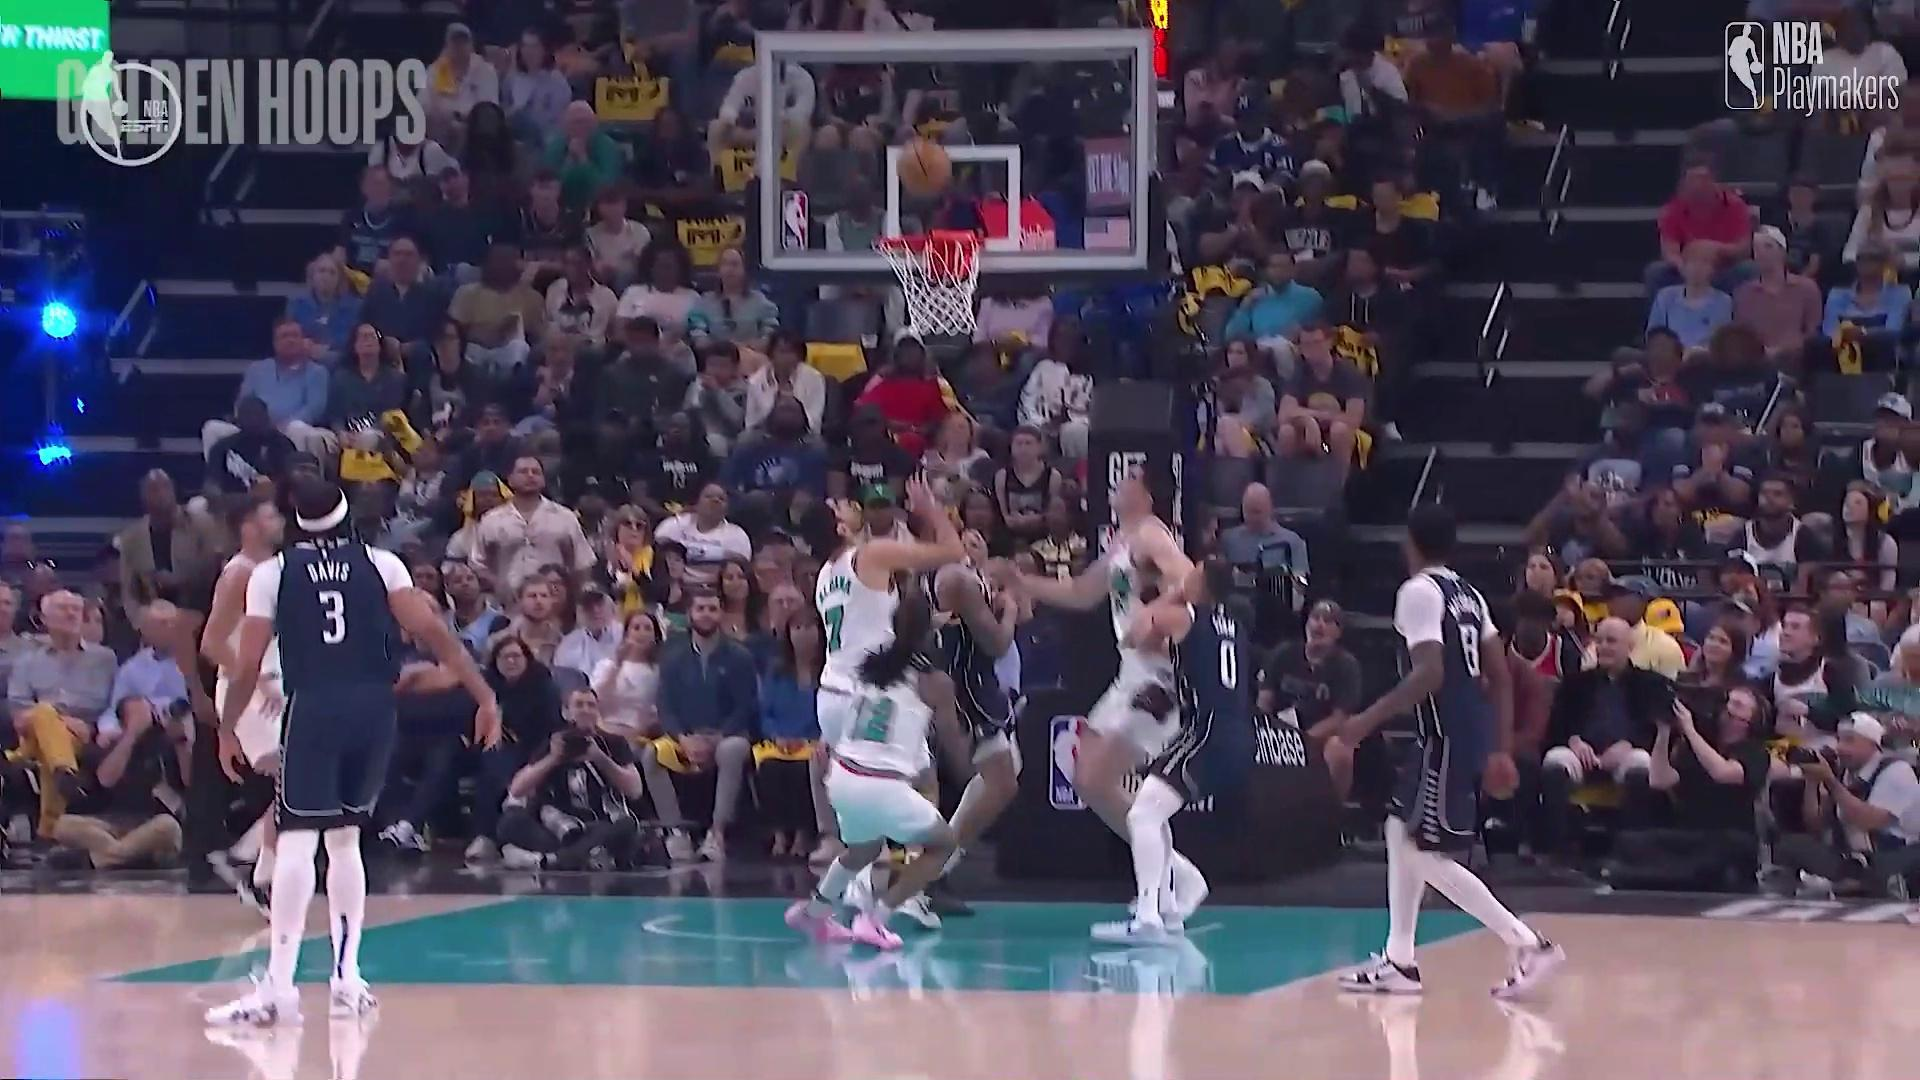ball: (898, 142, 952, 203)
hoop: (886, 231, 982, 336)
